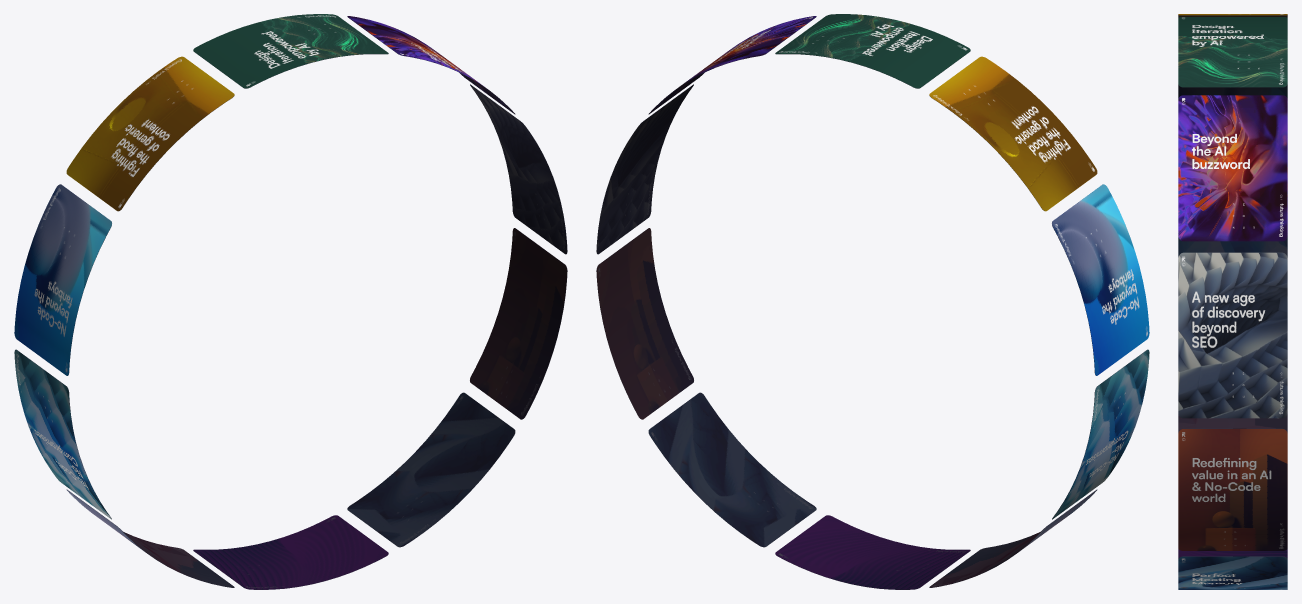
The model's file is carousel_fixed.gltf.
3 views of the same model, side by side, from view 1: azimuth 30°, elevation 25°; view 2: azimuth 150°, elevation 25°; view 3: azimuth 270°, elevation 25° (orthographic).
Visible parts, largest first — view 1: fighting-the-flood-of-generic-content-4a, perfect-meeting-memory-9b, no-code-beyond-the-fanboys-5a, redefining-value-in-an-ai-no-code-world-10b, perceived-obsolescence-fast-forwarded-8b, design-iteration-empowered-by-ai-3a, a-new-age-of-discovery-beyond-seo-1b, no-code-no-compromises-6a, beyond-the-ai-buzzword-2a, onboarding-your-team-to-harness-the-power-of-ai-7b; view 2: fighting-the-flood-of-generic-content-4a, perfect-meeting-memory-9b, no-code-beyond-the-fanboys-5a, redefining-value-in-an-ai-no-code-world-10b, perceived-obsolescence-fast-forwarded-8b, design-iteration-empowered-by-ai-3a, no-code-no-compromises-6a, a-new-age-of-discovery-beyond-seo-1b, beyond-the-ai-buzzword-2a, onboarding-your-team-to-harness-the-power-of-ai-7b; view 3: a-new-age-of-discovery-beyond-seo-1a, beyond-the-ai-buzzword-2a, redefining-value-in-an-ai-no-code-world-10a, design-iteration-empowered-by-ai-3a, perfect-meeting-memory-9a, no-code-no-compromises-6b, onboarding-your-team-to-harness-the-power-of-ai-7b, no-code-beyond-the-fanboys-5b, perceived-obsolescence-fast-forwarded-8b, fighting-the-flood-of-generic-content-4b, fighting-the-flood-of-generic-content-4a.
Part boxes in pixels (x1,y1,x2,y2): fighting-the-flood-of-generic-content-4a: [66, 56, 234, 211]; perfect-meeting-memory-9b: [347, 392, 515, 546]; no-code-beyond-the-fanboys-5a: [14, 184, 111, 375]; redefining-value-in-an-ai-no-code-world-10b: [470, 228, 567, 419]; perceived-obsolescence-fast-forwarded-8b: [193, 515, 388, 589]; design-iteration-empowered-by-ai-3a: [193, 14, 388, 88]; a-new-age-of-discovery-beyond-seo-1b: [470, 84, 567, 254]; no-code-no-compromises-6a: [14, 349, 111, 519]; beyond-the-ai-buzzword-2a: [347, 16, 484, 86]; onboarding-your-team-to-harness-the-power-of-ai-7b: [123, 532, 234, 587]; fighting-the-flood-of-generic-content-4a: [929, 56, 1097, 211]; perfect-meeting-memory-9b: [648, 392, 816, 546]; no-code-beyond-the-fanboys-5a: [1052, 184, 1149, 375]; redefining-value-in-an-ai-no-code-world-10b: [596, 228, 693, 419]; perceived-obsolescence-fast-forwarded-8b: [775, 515, 970, 589]; design-iteration-empowered-by-ai-3a: [775, 14, 970, 88]; no-code-no-compromises-6a: [1052, 349, 1149, 519]; a-new-age-of-discovery-beyond-seo-1b: [596, 84, 693, 254]; beyond-the-ai-buzzword-2a: [679, 16, 816, 86]; onboarding-your-team-to-harness-the-power-of-ai-7b: [929, 532, 1040, 587]; a-new-age-of-discovery-beyond-seo-1a: [1178, 252, 1287, 418]; beyond-the-ai-buzzword-2a: [1178, 95, 1287, 241]; redefining-value-in-an-ai-no-code-world-10a: [1178, 429, 1287, 550]; design-iteration-empowered-by-ai-3a: [1178, 17, 1287, 87]; perfect-meeting-memory-9a: [1178, 556, 1287, 589]; no-code-no-compromises-6b: [1178, 237, 1287, 257]; onboarding-your-team-to-harness-the-power-of-ai-7b: [1178, 414, 1287, 432]; no-code-beyond-the-fanboys-5b: [1178, 84, 1287, 98]; perceived-obsolescence-fast-forwarded-8b: [1178, 549, 1287, 558]; fighting-the-flood-of-generic-content-4b: [1178, 15, 1287, 17]; fighting-the-flood-of-generic-content-4a: [1178, 14, 1287, 15].
Bounding box in the file's own units: 2243 × 2243 × 425.
21 materials, 20 textured.
